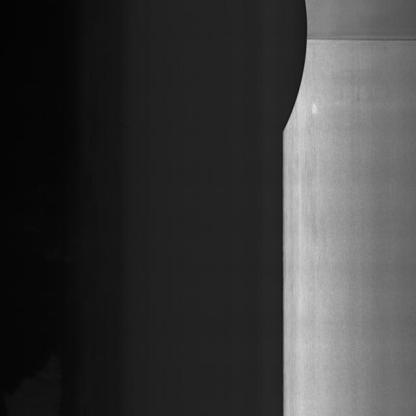crescent_gap: (278, 0, 310, 142)
welding_line: (307, 35, 416, 46)
